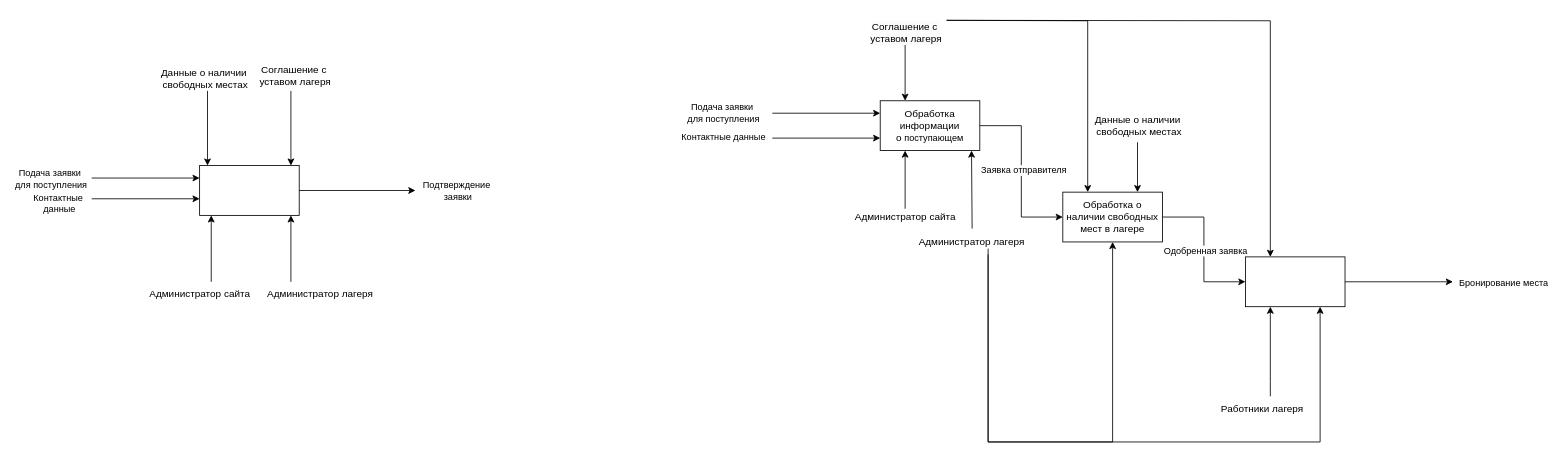
This 1562x463 diagram has some shape labels left out. The shapes that lost their labels are listed below. From the top down, each one's box as (x1, y1, x2, y2) in pixels, then its label:
(199, 165, 299, 215): Обработка заявки для поступления в лагерь
(1245, 256, 1345, 307): Подтверждение заявки для поступления
